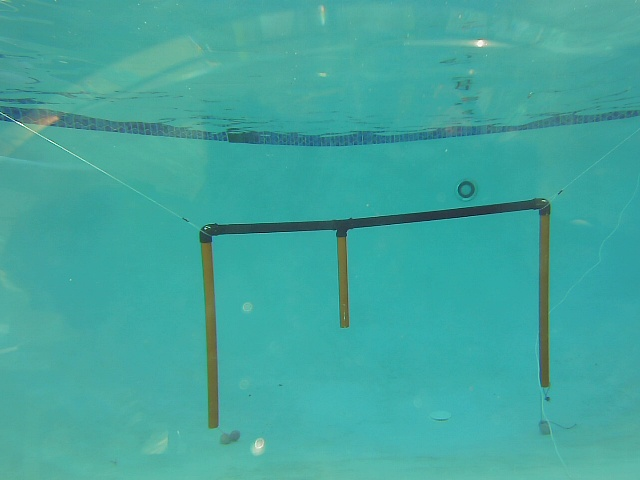Gate: (199, 237, 222, 432), (535, 209, 553, 393), (335, 229, 350, 330)
